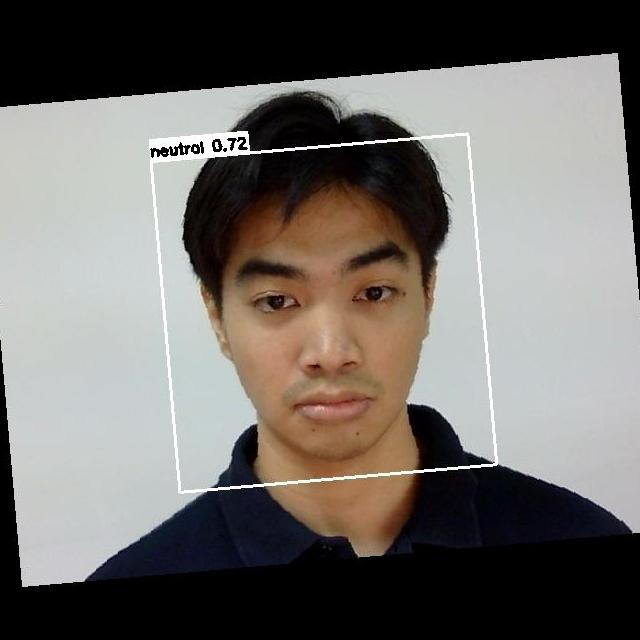Fear: (218, 222, 429, 431)
